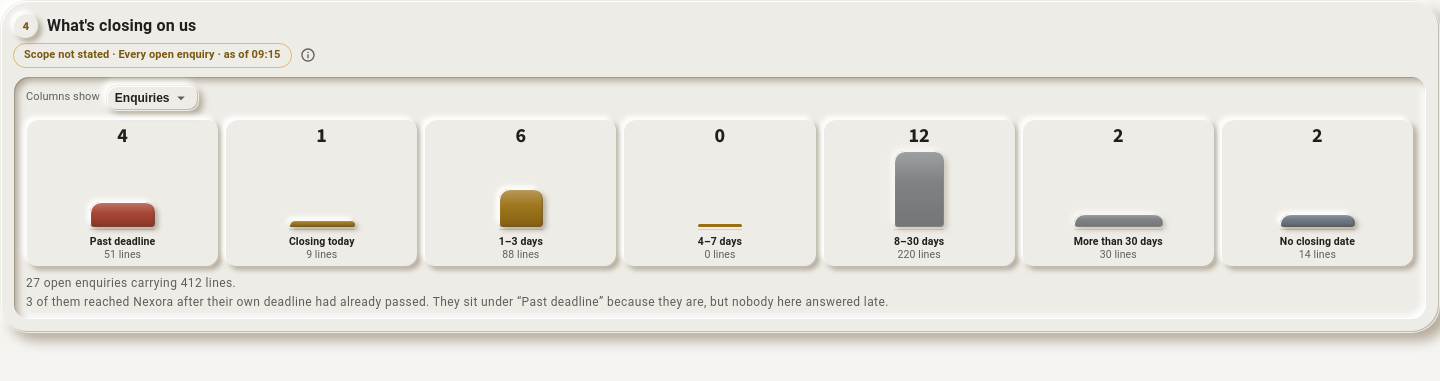
Test: ClosingBand — populated › says none for an empty column rather than erroring
This screenshot has width=1440, height=381.
Click the button with aria-label "4–7 days: 0 open enquiries".
click(720, 193)  # box [623, 118, 816, 267]
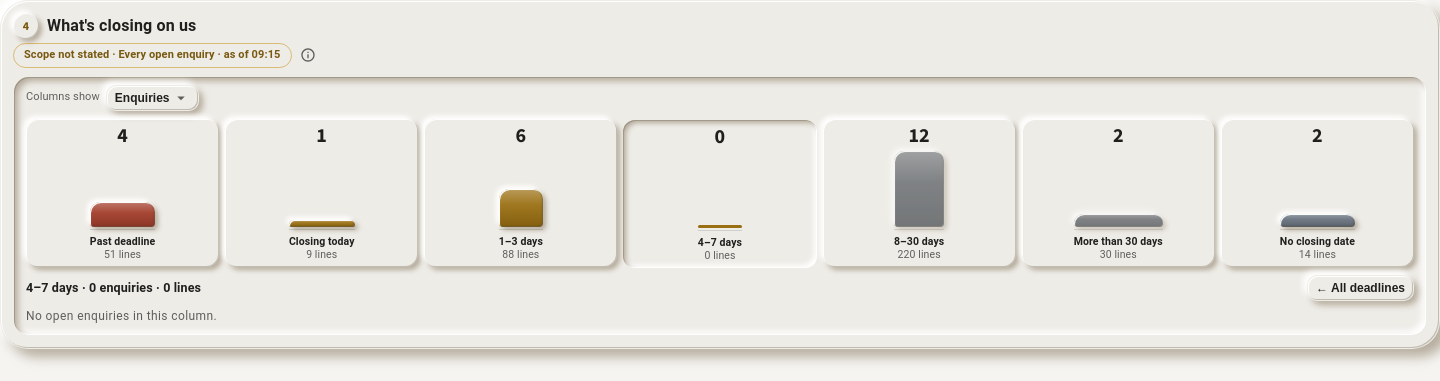
Result: the text "No open enquiries in this column." is shown at [26, 309, 217, 323]
